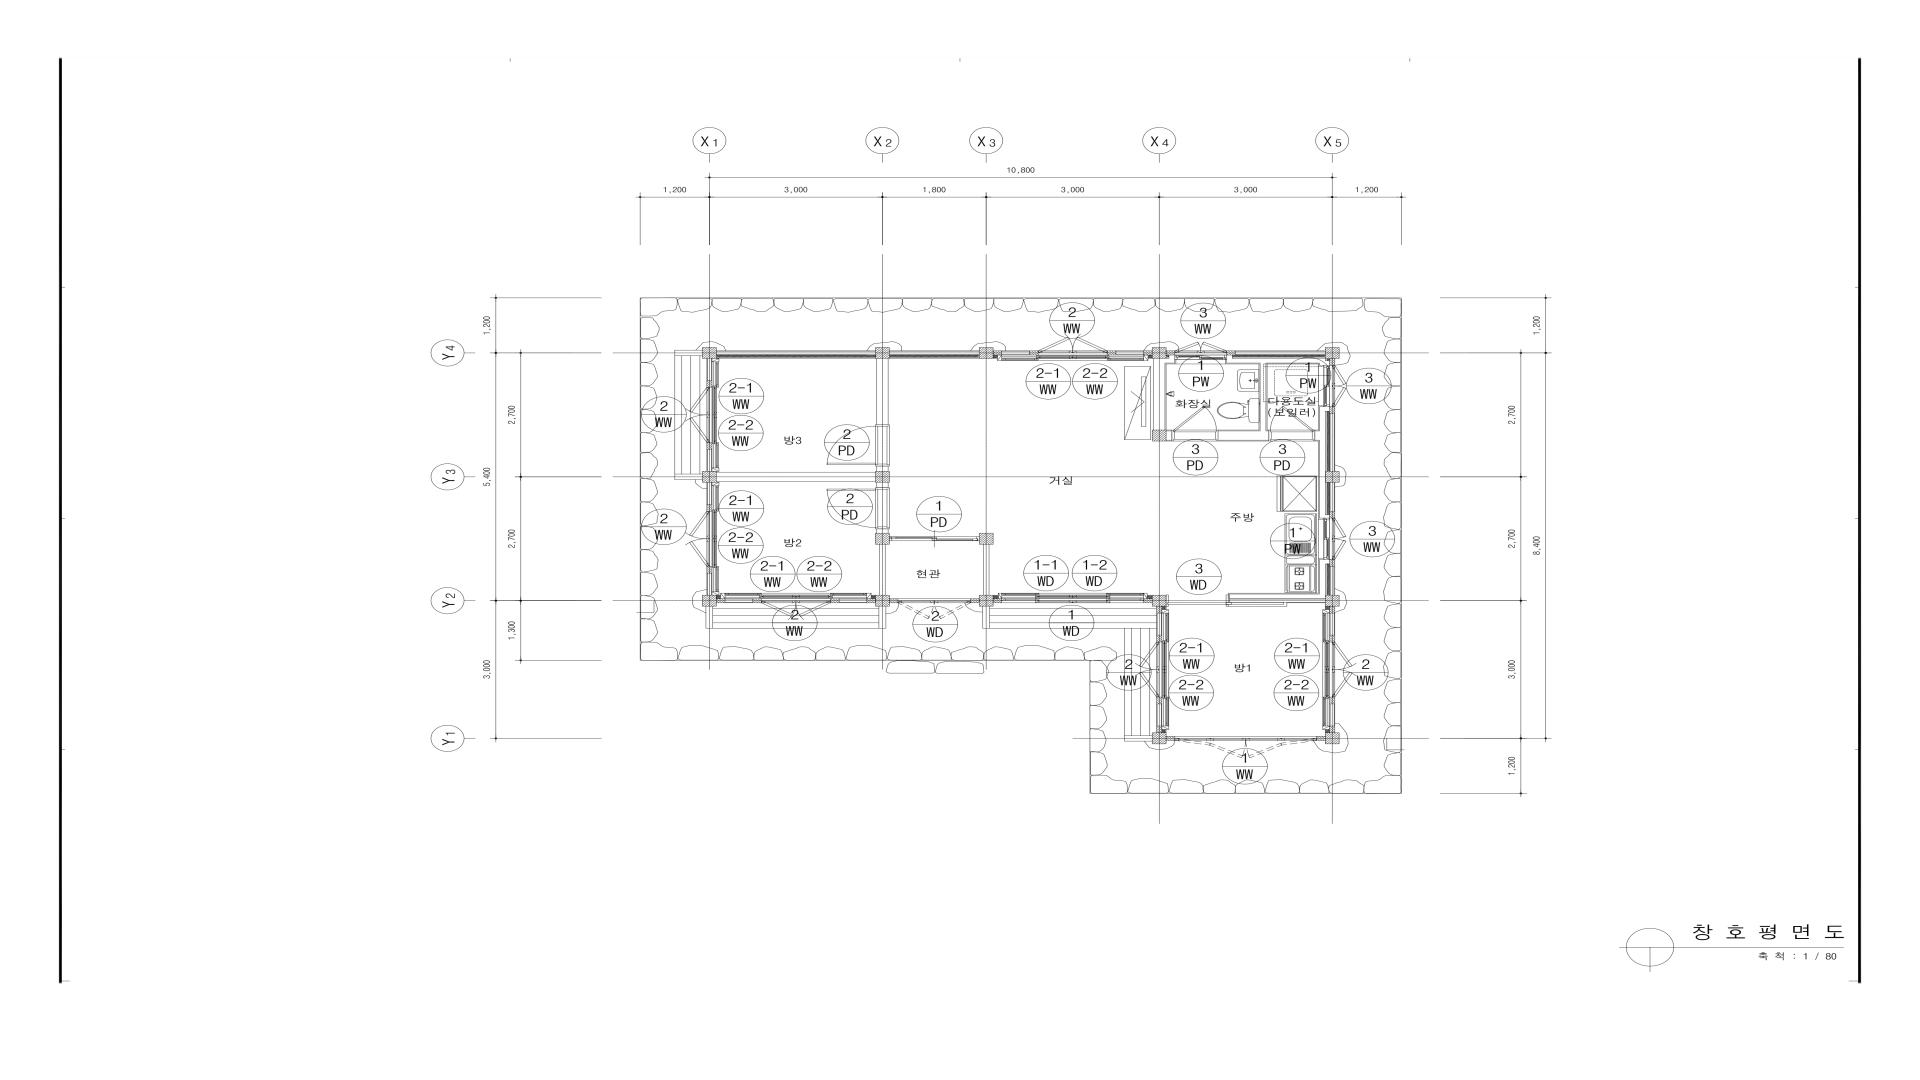door: (827, 425, 890, 467), (827, 488, 890, 529), (1269, 405, 1315, 442), (1171, 406, 1218, 442), (897, 599, 971, 621), (1166, 595, 1229, 607), (890, 537, 978, 541)
wall: (1315, 406, 1329, 518), (716, 472, 876, 481), (1153, 364, 1167, 430), (876, 359, 889, 425), (716, 351, 876, 355), (1258, 364, 1267, 430), (1218, 430, 1269, 442), (1229, 593, 1325, 599), (1226, 359, 1319, 364), (1229, 599, 1325, 603), (1319, 559, 1329, 593), (890, 351, 980, 355), (1236, 351, 1325, 355), (880, 545, 886, 595), (982, 545, 989, 595), (1329, 414, 1335, 471), (1329, 483, 1336, 512), (702, 595, 716, 607), (876, 595, 890, 607), (876, 533, 890, 545), (978, 595, 993, 607), (978, 533, 993, 545), (1325, 595, 1340, 607), (1325, 471, 1340, 483), (1325, 347, 1340, 359), (1153, 347, 1167, 359), (978, 347, 993, 359), (876, 347, 890, 359), (702, 347, 716, 359), (702, 471, 716, 483), (876, 471, 890, 483), (1153, 430, 1167, 442), (1153, 595, 1166, 607), (1325, 733, 1340, 744), (1329, 567, 1335, 595), (1153, 733, 1166, 744), (1153, 359, 1175, 364), (876, 483, 889, 488), (1319, 359, 1329, 365), (1166, 430, 1171, 442), (876, 529, 889, 533), (876, 467, 889, 471), (1166, 736, 1175, 741), (1329, 512, 1336, 518), (1329, 636, 1336, 642), (707, 566, 712, 574), (707, 504, 712, 512), (707, 380, 712, 388), (1329, 406, 1335, 414), (1329, 559, 1335, 567), (1317, 736, 1325, 741), (1156, 696, 1162, 704), (866, 599, 876, 603), (831, 599, 840, 603), (716, 599, 725, 603), (993, 351, 1002, 355), (1029, 351, 1038, 355), (1143, 351, 1153, 355), (1226, 351, 1236, 355), (1143, 599, 1153, 603), (993, 599, 1002, 603), (707, 443, 712, 450), (1329, 359, 1335, 365), (1329, 607, 1335, 613), (1329, 698, 1335, 704), (1329, 727, 1335, 733), (1156, 727, 1162, 733), (1156, 636, 1162, 642), (1156, 607, 1162, 613), (753, 599, 761, 603), (1108, 351, 1116, 355), (1167, 351, 1175, 355), (971, 599, 978, 603), (890, 599, 898, 603), (1168, 355, 1175, 359), (1226, 355, 1233, 359)
window: (1175, 736, 1317, 760), (1002, 593, 1145, 603), (1332, 642, 1354, 698), (688, 512, 709, 566), (1038, 338, 1108, 353), (761, 600, 831, 616), (690, 388, 709, 443), (1139, 642, 1159, 696), (997, 355, 1149, 361), (1162, 609, 1170, 729), (711, 359, 719, 471), (720, 593, 872, 599), (1323, 609, 1329, 729), (712, 483, 719, 595), (1332, 518, 1348, 559), (1332, 365, 1348, 406), (1175, 342, 1226, 353), (1175, 355, 1226, 363), (1324, 518, 1332, 559), (1324, 365, 1332, 406), (1329, 613, 1336, 636), (1329, 704, 1335, 727), (1156, 704, 1162, 727), (1156, 613, 1162, 636), (707, 574, 712, 595), (707, 483, 712, 504), (707, 450, 712, 471), (707, 359, 712, 380), (839, 599, 866, 603), (725, 599, 753, 603), (1116, 351, 1143, 355), (1002, 351, 1029, 355)
